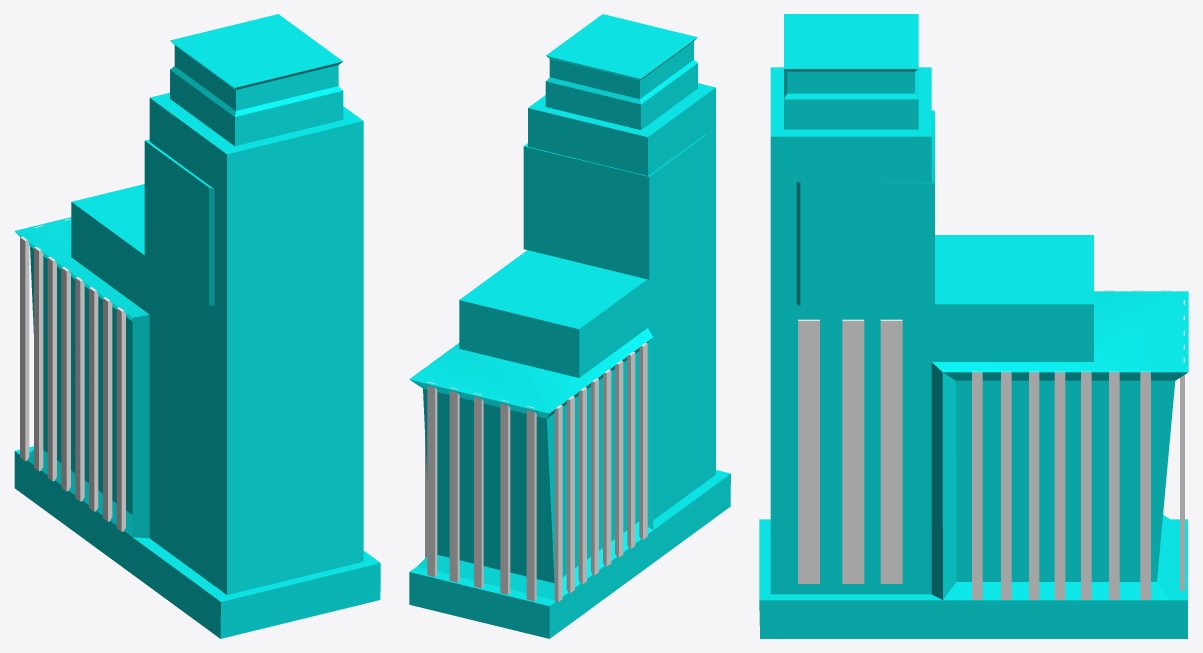
Rendered from Building_4_Blue.glb.
3 views of the same model, side by side, from view 1: azimuth 30°, elevation 25°; view 2: azimuth 150°, elevation 25°; view 3: azimuth 270°, elevation 25° (orthographic). The views are drawn at different scales.
Parts seen in each view (by area): view 1: polySurface26; view 2: polySurface26; view 3: polySurface26.
Part boxes in pixels (bbox=[...]): polySurface26: bbox=[14, 14, 380, 638]; polySurface26: bbox=[409, 14, 730, 638]; polySurface26: bbox=[759, 14, 1188, 638].
Size of the model in its own units: 31.64 by 100 by 69.98.
